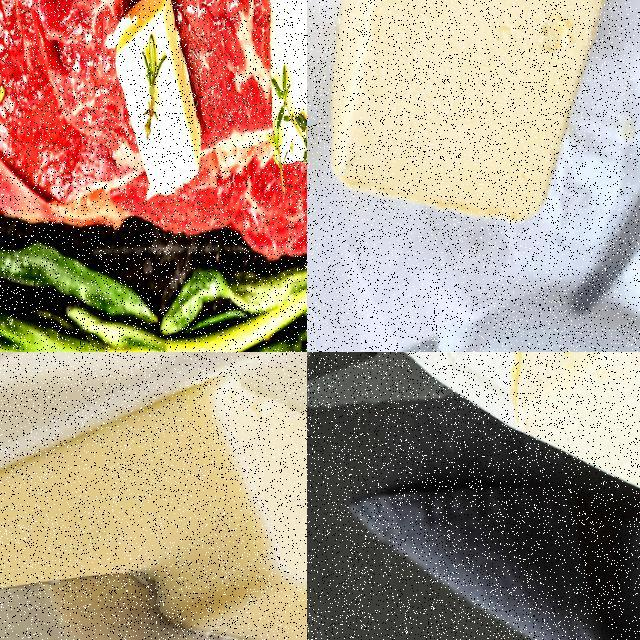Butter: (0, 364, 306, 639), (326, 0, 623, 229), (511, 352, 639, 528), (107, 0, 202, 201), (267, 0, 306, 176)
